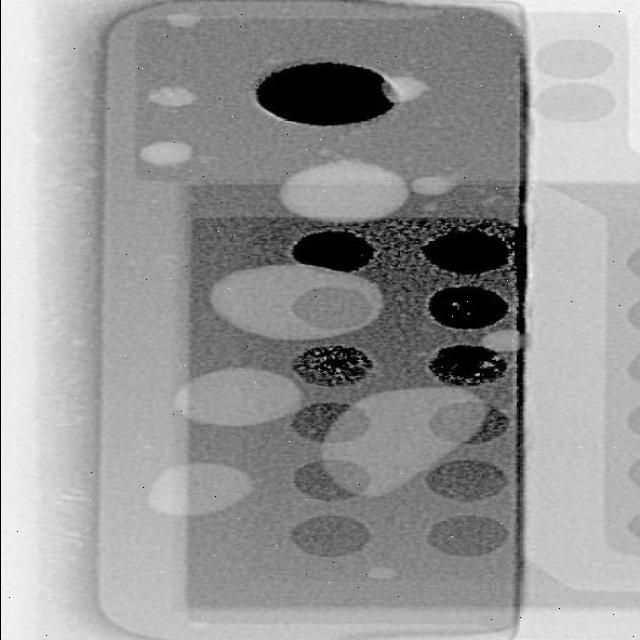Chip: (97, 0, 526, 640)
void: (294, 387, 506, 497), (210, 264, 381, 339), (256, 63, 394, 125), (279, 159, 408, 222), (176, 368, 301, 425), (147, 463, 252, 516), (379, 72, 427, 104), (139, 142, 191, 165), (146, 86, 196, 107), (165, 14, 200, 27), (368, 566, 397, 577)
